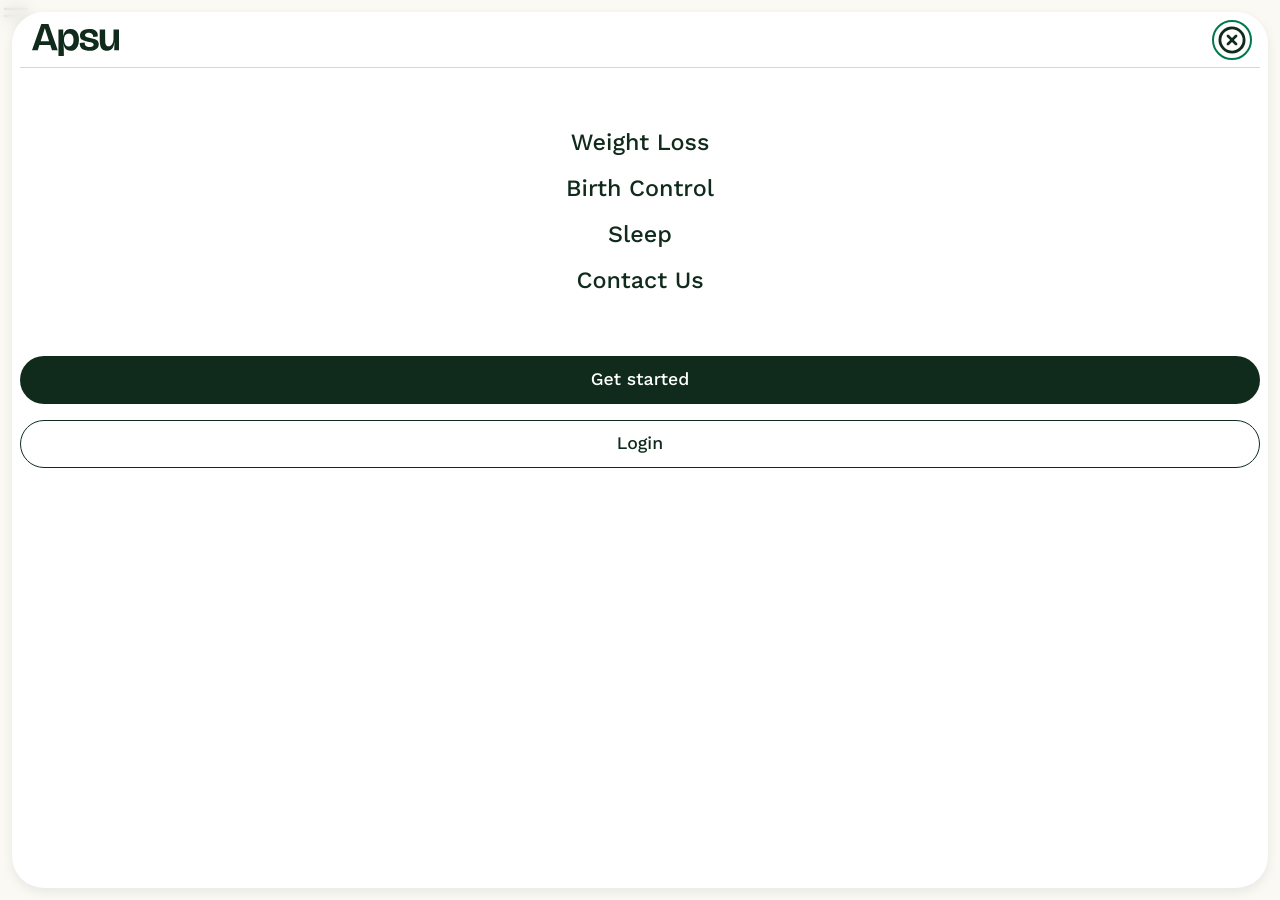
Test: MobileMenu › closes from the close button
Click the button named "Close menu": (1232, 40) 1216,24 -> 1248,56
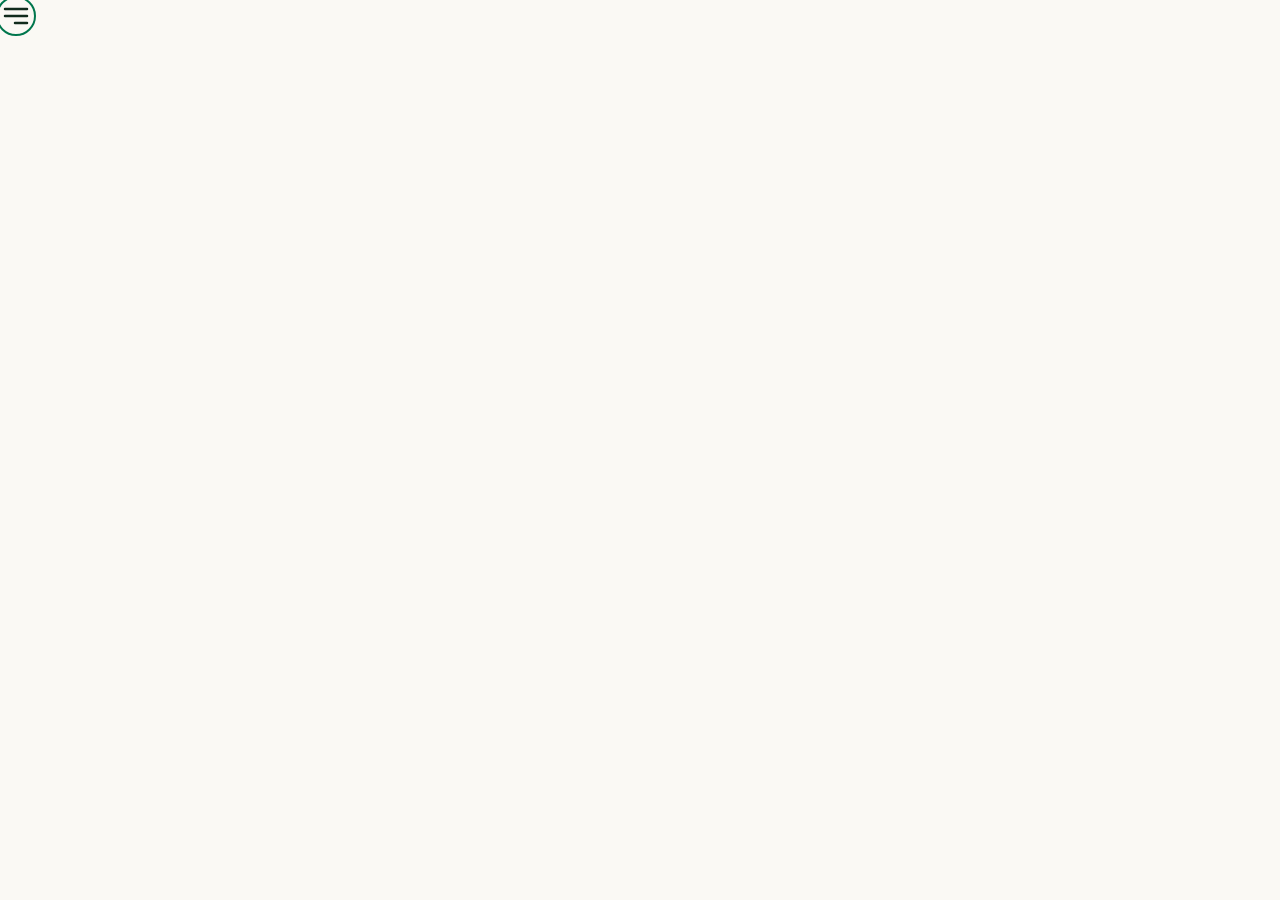
Now the dialog is gone
